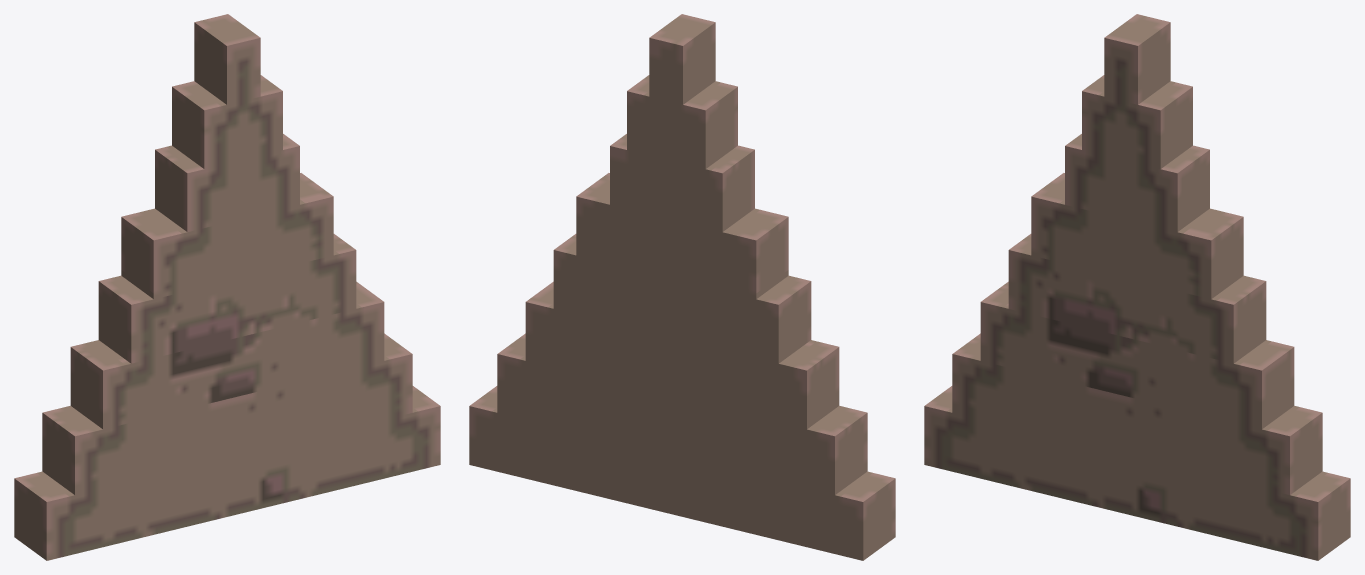
File: Roof_Wall-1.fbx
3 views of the same model, side by side, from view 1: azimuth 30°, elevation 25°; view 2: azimuth 150°, elevation 25°; view 3: azimuth 330°, elevation 25° (orthographic).
Parts seen in each view (by area): view 1: Roof_Wall-1; view 2: Roof_Wall-1; view 3: Roof_Wall-1.
Part boxes in pixels (left/top/right/bottom): Roof_Wall-1: left=14, top=14, right=440, bottom=560; Roof_Wall-1: left=469, top=14, right=895, bottom=560; Roof_Wall-1: left=924, top=14, right=1350, bottom=560.
Bounding box in the file's own units: 350 × 400 × 50.
